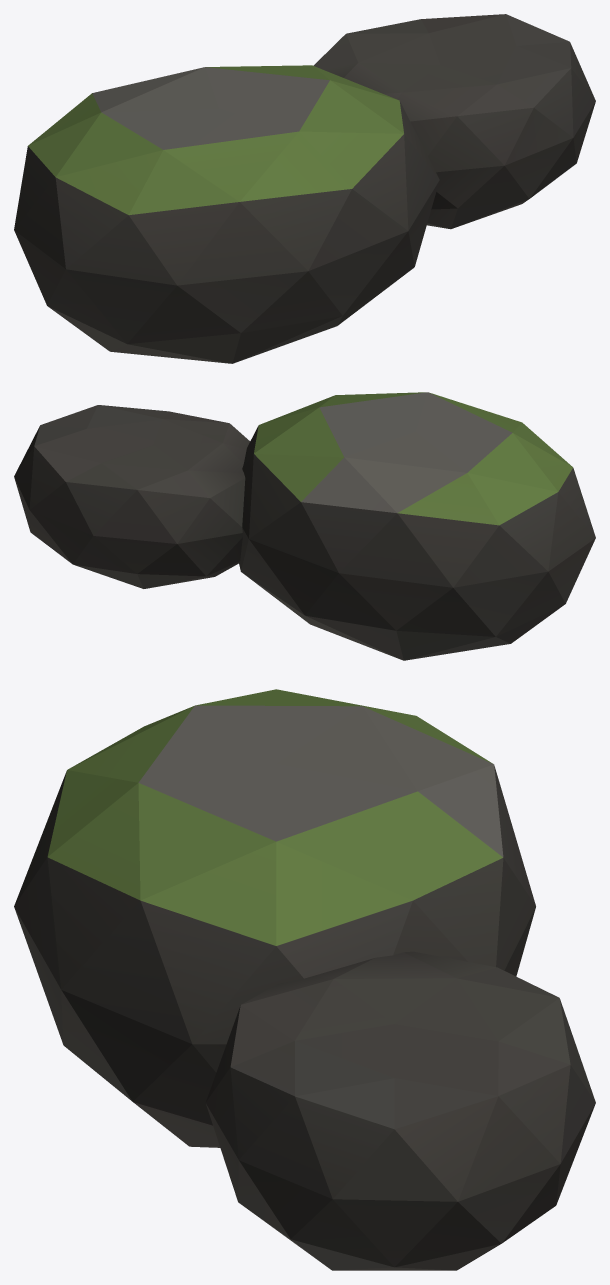
File: creek_stone_b_low.glb
The picture shows the model from 3 angles, top to bottom: view 1: azimuth 30°, elevation 25°; view 2: azimuth 150°, elevation 25°; view 3: azimuth 270°, elevation 25°; orthographic projection. The views are drawn at different scales.
Parts seen in each view (by area): view 1: creek_stone_b; view 2: creek_stone_b; view 3: creek_stone_b.
Part boxes in pixels (<box>): creek_stone_b: <box>14,14,595,363</box>; creek_stone_b: <box>14,392,595,660</box>; creek_stone_b: <box>14,689,595,1270</box>.
Size of the model in its own units: 0.997 by 0.4057 by 0.5908.
